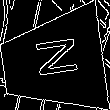N_W: (26, 39, 80, 85)
